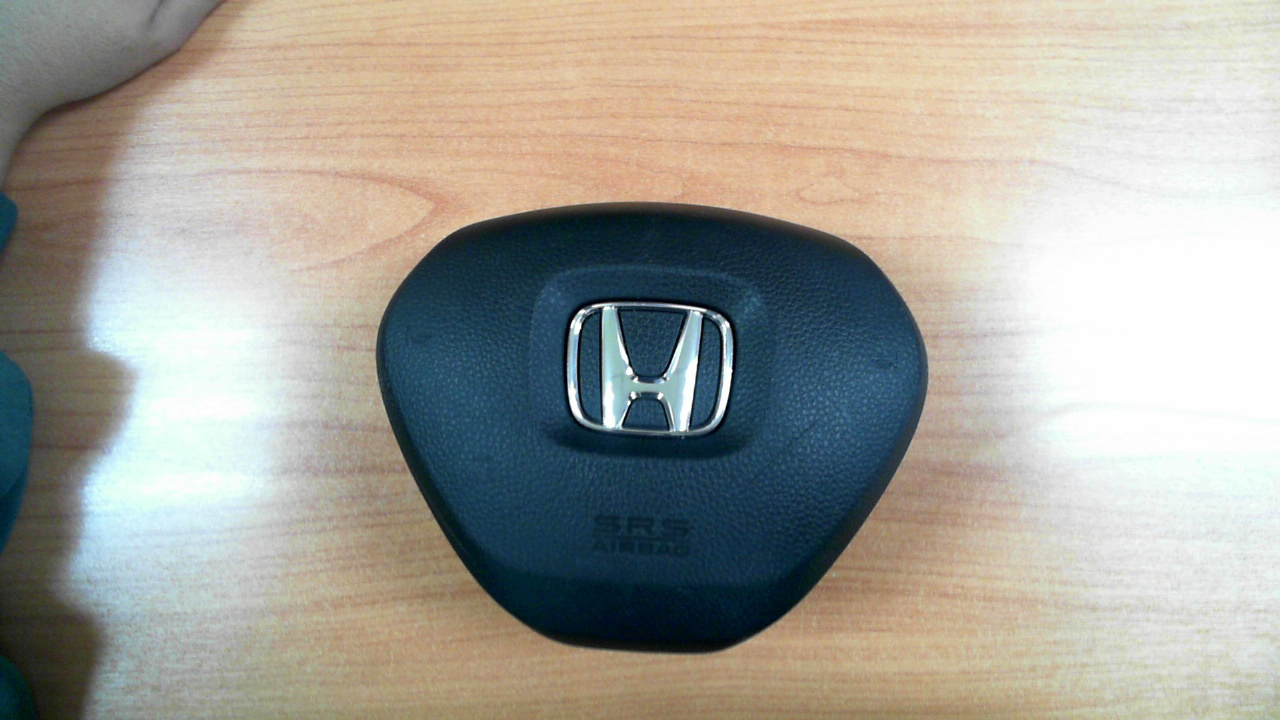Airbag: (375, 201, 928, 655)
Honda: (566, 301, 734, 440)
